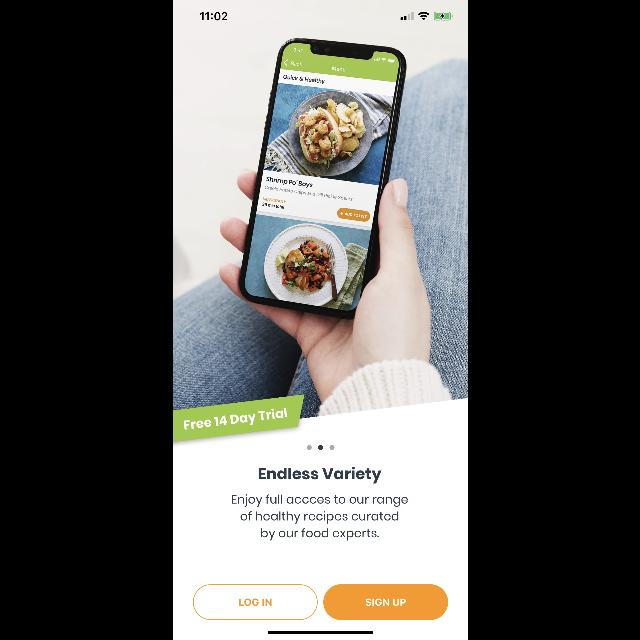image: (172, 38, 468, 442)
pageindicator: (306, 446, 334, 450)
text: (231, 495, 407, 541), (258, 466, 380, 484)
textbutton: (322, 584, 448, 620), (192, 584, 318, 620)
uppertaskbar: (200, 12, 452, 21)
